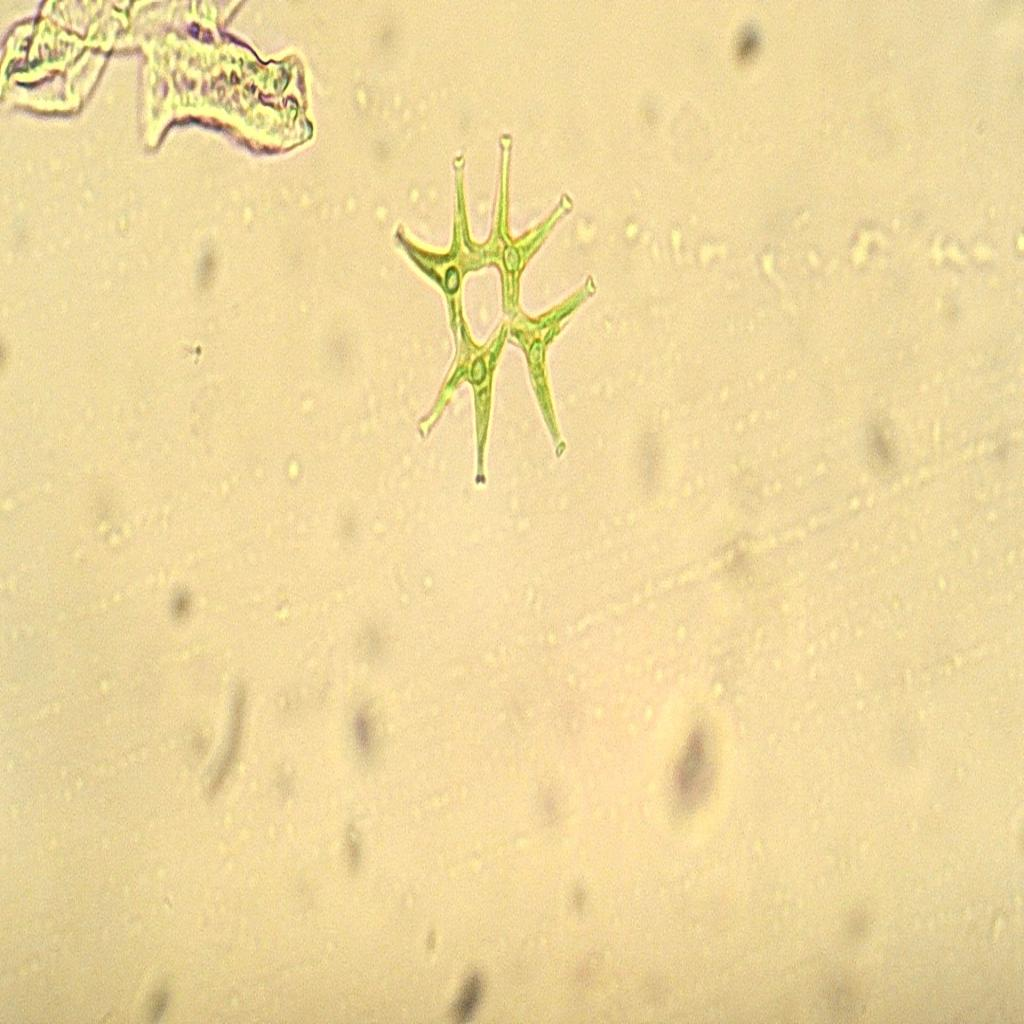Pediastrum_CT: (378, 114, 610, 514)
